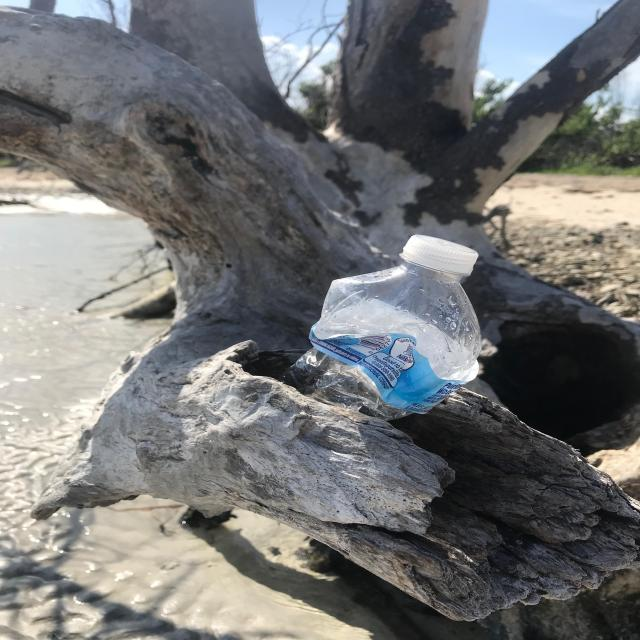litter: (311, 120, 560, 265)
